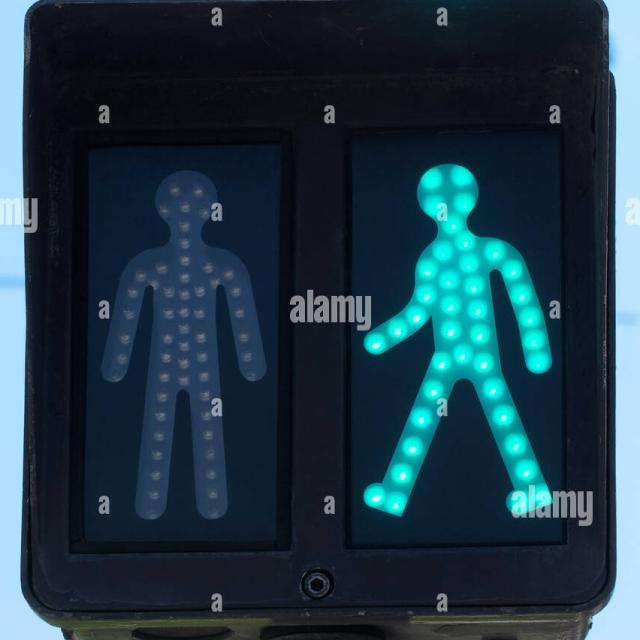green_light: (372, 151, 546, 491)
